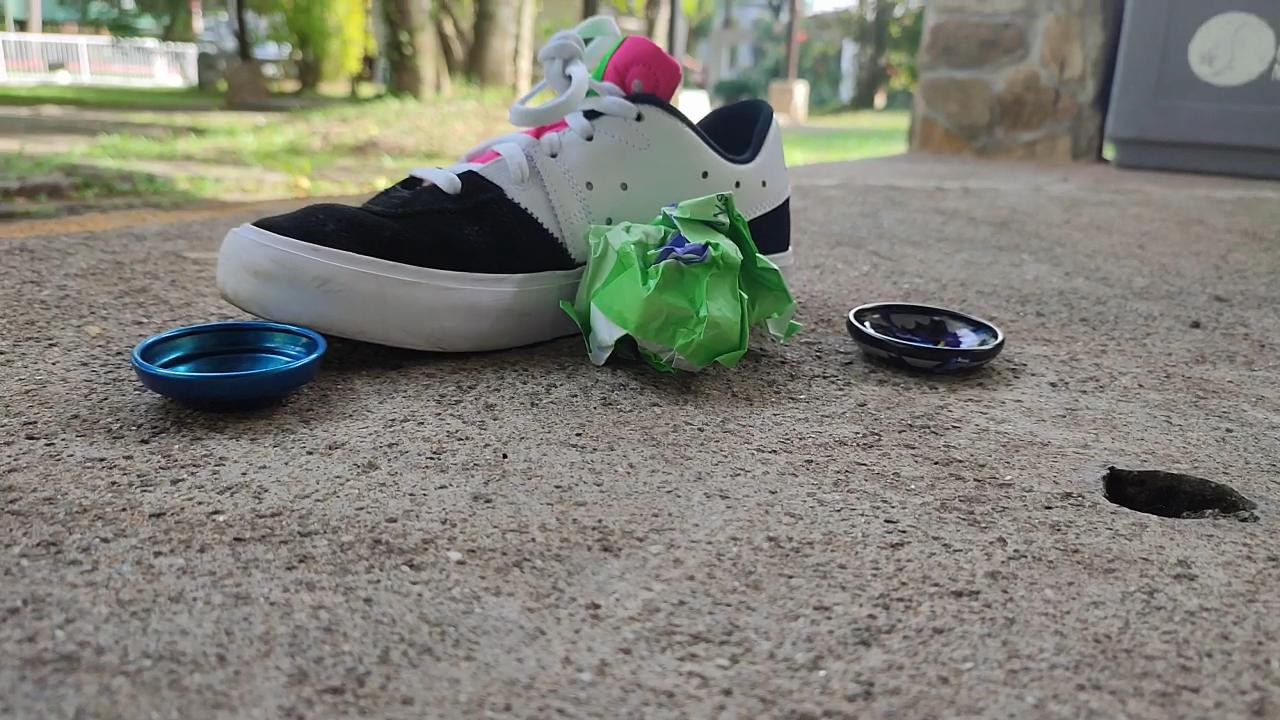Paper: (553, 182, 810, 387)
